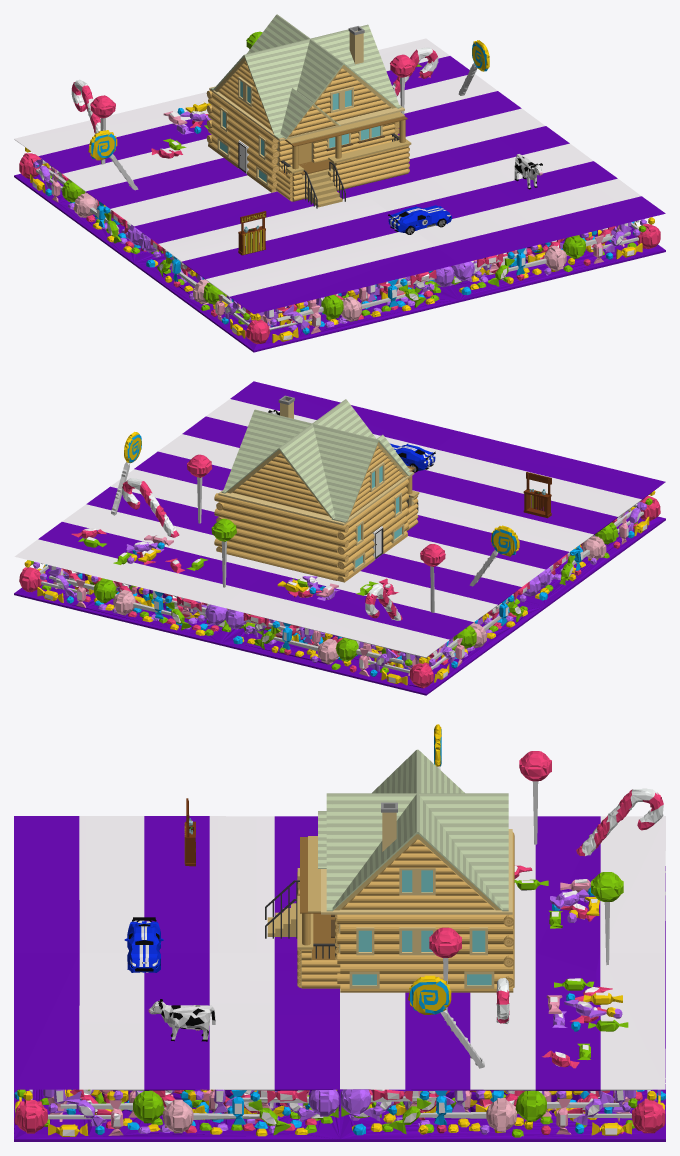
The picture shows the model from 3 angles, top to bottom: view 1: azimuth 30°, elevation 25°; view 2: azimuth 150°, elevation 25°; view 3: azimuth 270°, elevation 25°; orthographic projection. The views are drawn at different scales.
Parts seen in each view (by area): view 1: TERRAIN_CANDY, Cube.1516, VEHICLES_RACING_CAR, OBJRANDOM_LEMONADE_STAND, ANIMAL_VACA; view 2: TERRAIN_CANDY, Cube.1516, OBJRANDOM_LEMONADE_STAND, VEHICLES_RACING_CAR; view 3: TERRAIN_CANDY, Cube.1516, VEHICLES_RACING_CAR, ANIMAL_VACA, OBJRANDOM_LEMONADE_STAND.
Part boxes in pixels (box(x1,y1,x2,y2)): TERRAIN_CANDY: box(14, 31, 665, 352); Cube.1516: box(206, 14, 411, 208); VEHICLES_RACING_CAR: box(388, 205, 451, 234); OBJRANDOM_LEMONADE_STAND: box(238, 211, 266, 255); ANIMAL_VACA: box(514, 154, 542, 189); TERRAIN_CANDY: box(14, 381, 665, 695); Cube.1516: box(214, 395, 419, 582); OBJRANDOM_LEMONADE_STAND: box(523, 472, 551, 518); VEHICLES_RACING_CAR: box(390, 443, 435, 472); TERRAIN_CANDY: box(14, 724, 665, 1141); Cube.1516: box(265, 749, 514, 992); VEHICLES_RACING_CAR: box(124, 917, 163, 972); ANIMAL_VACA: box(148, 999, 215, 1041); OBJRANDOM_LEMONADE_STAND: box(184, 798, 195, 866).
Bounding box in the file's own units: 4059 × 1584 × 4000.
34 materials, 3 textured.
